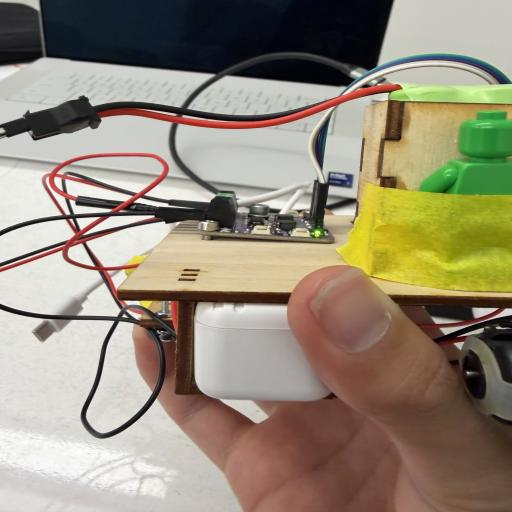Green-Lego: (420, 111, 512, 195)
